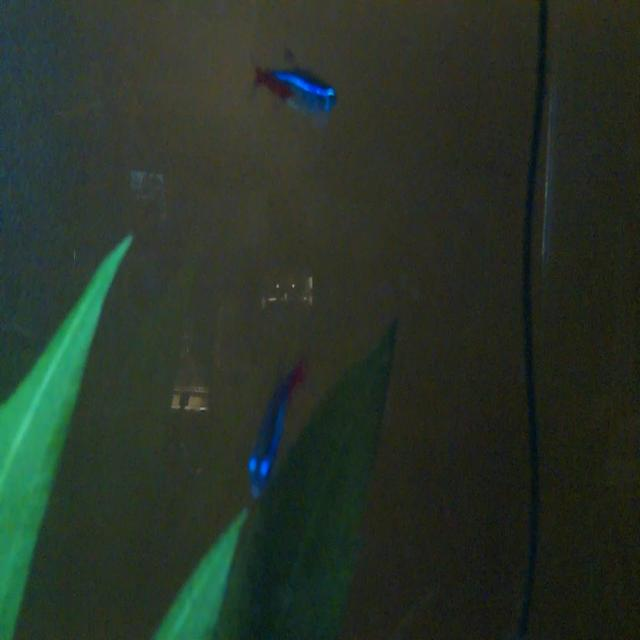fish: (221, 340, 314, 497), (242, 39, 341, 129)
